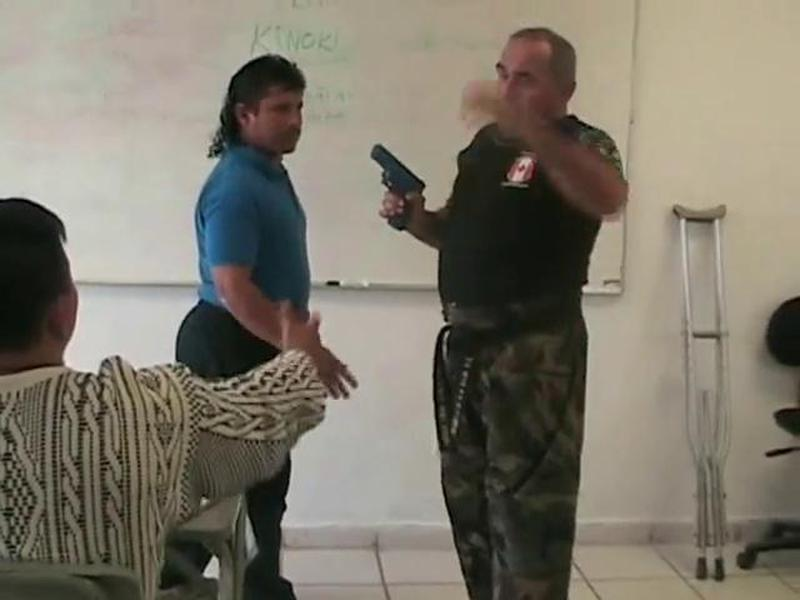Pistola: (366, 141, 433, 232)
